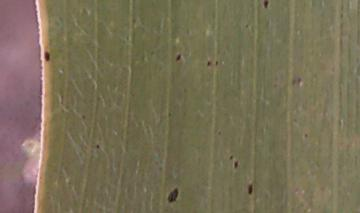tarspot: (165, 186, 180, 203), (246, 182, 254, 196), (289, 77, 299, 87), (43, 50, 51, 62), (174, 53, 183, 63), (296, 75, 303, 86), (213, 58, 220, 68), (94, 143, 102, 151), (205, 59, 213, 67), (262, 1, 269, 10), (233, 159, 239, 169), (227, 153, 234, 161), (166, 110, 173, 118), (243, 22, 250, 30), (303, 131, 309, 140), (80, 113, 86, 120), (216, 129, 222, 136)
